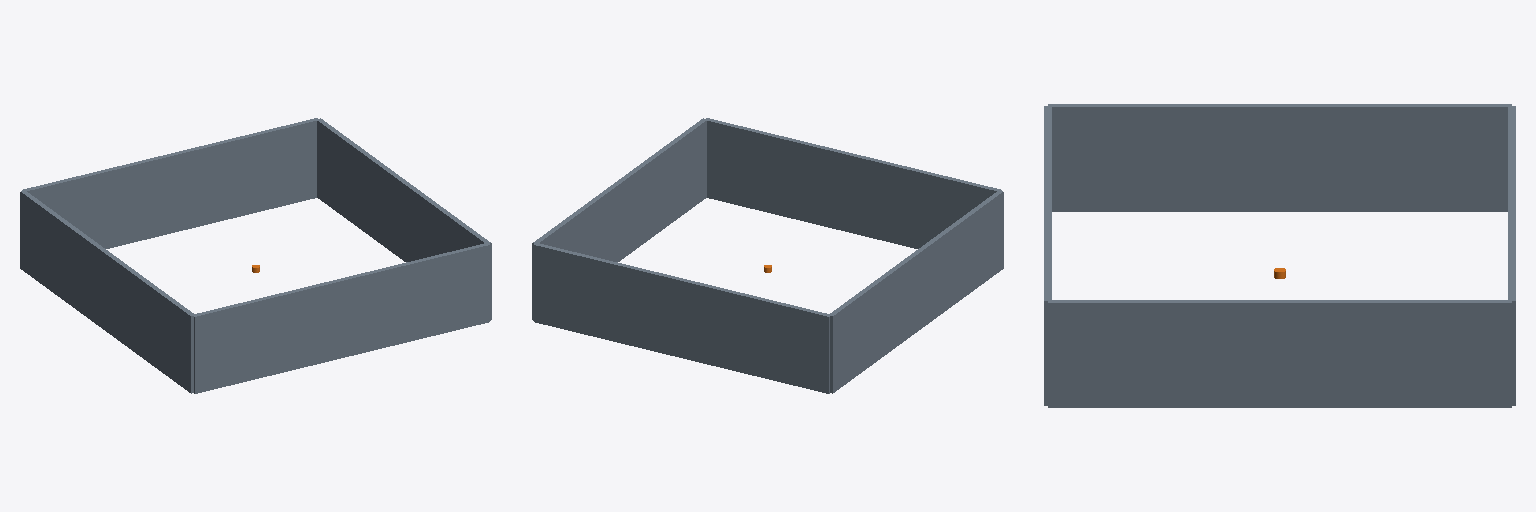
The robot description file, URDF, robot "spin":
<?xml version="1.0"?>
<!-- A lidar spinning at 1 turn/s in a 12 m by 12 m room. -->
<robot name="spin"><link name="world"/>
  <link name="head"><inertial><mass value="5"/><inertia ixx="1" iyy="1" izz="1" ixy="0" ixz="0" iyz="0"/></inertial>
    <visual><geometry><cylinder radius="0.15" length="0.2"/></geometry><material name="h"><color rgba="0.9 0.5 0.15 1"/></material></visual></link>
  <joint name="turn" type="continuous"><parent link="world"/><child link="head"/><origin xyz="0 0 1"/><axis xyz="0 0 1"/></joint>
  <gazebo reference="head"><sensor name="scanner" type="ray"><update_rate>5</update_rate><ray>
    <scan><horizontal><samples>720</samples><min_angle>-3.14159</min_angle><max_angle>3.14159</max_angle></horizontal></scan>
    <range><min>0.1</min><max>30</max></range></ray></sensor></gazebo>
  <link name="wall0"><collision><geometry><box size="0.2 12 3"/></geometry></collision>
    <visual><geometry><box size="0.2 12 3"/></geometry><material name="w0"><color rgba="0.5 0.55 0.6 1"/></material></visual></link>
  <joint name="wall0_fix" type="fixed"><parent link="world"/><child link="wall0"/><origin xyz="6 0 1.5"/></joint>
  <link name="wall1"><collision><geometry><box size="0.2 12 3"/></geometry></collision>
    <visual><geometry><box size="0.2 12 3"/></geometry><material name="w1"><color rgba="0.5 0.55 0.6 1"/></material></visual></link>
  <joint name="wall1_fix" type="fixed"><parent link="world"/><child link="wall1"/><origin xyz="-6 0 1.5"/></joint>
  <link name="wall2"><collision><geometry><box size="12 0.2 3"/></geometry></collision>
    <visual><geometry><box size="12 0.2 3"/></geometry><material name="w2"><color rgba="0.5 0.55 0.6 1"/></material></visual></link>
  <joint name="wall2_fix" type="fixed"><parent link="world"/><child link="wall2"/><origin xyz="0 6 1.5"/></joint>
  <link name="wall3"><collision><geometry><box size="12 0.2 3"/></geometry></collision>
    <visual><geometry><box size="12 0.2 3"/></geometry><material name="w3"><color rgba="0.5 0.55 0.6 1"/></material></visual></link>
  <joint name="wall3_fix" type="fixed"><parent link="world"/><child link="wall3"/><origin xyz="0 -6 1.5"/></joint>
</robot>

--- Facts derived from the render (not from the file) ---
3 views of the same robot in one strip: view 1: azimuth 30°, elevation 25°; view 2: azimuth 150°, elevation 25°; view 3: azimuth 270°, elevation 25° (orthographic).
Robot: spin — 6 links, 5 joints (1 continuous, 4 fixed); root link world; default pose: all joints at 0.
Visible links, largest first — view 1: wall3, wall2, wall1, wall0; view 2: wall2, wall3, wall1, wall0; view 3: wall0, wall1, wall2, wall3.
Link boxes in pixels (left/top/right/bottom): wall3: left=194, top=243, right=489, bottom=393; wall2: left=22, top=118, right=317, bottom=248; wall1: left=20, top=190, right=194, bottom=393; wall0: left=316, top=118, right=491, bottom=320; wall2: left=534, top=243, right=830, bottom=393; wall3: left=706, top=118, right=1001, bottom=248; wall1: left=829, top=190, right=1003, bottom=393; wall0: left=532, top=118, right=707, bottom=320; wall0: left=1048, top=300, right=1511, bottom=407; wall1: left=1048, top=104, right=1511, bottom=211; wall2: left=1508, top=106, right=1515, bottom=405; wall3: left=1044, top=106, right=1051, bottom=405.
Bounding box of the posed robot: 12.2 × 12.2 × 3 m (x, y, z).
Geometry: primitives only (box / cylinder / sphere), no mesh files.
